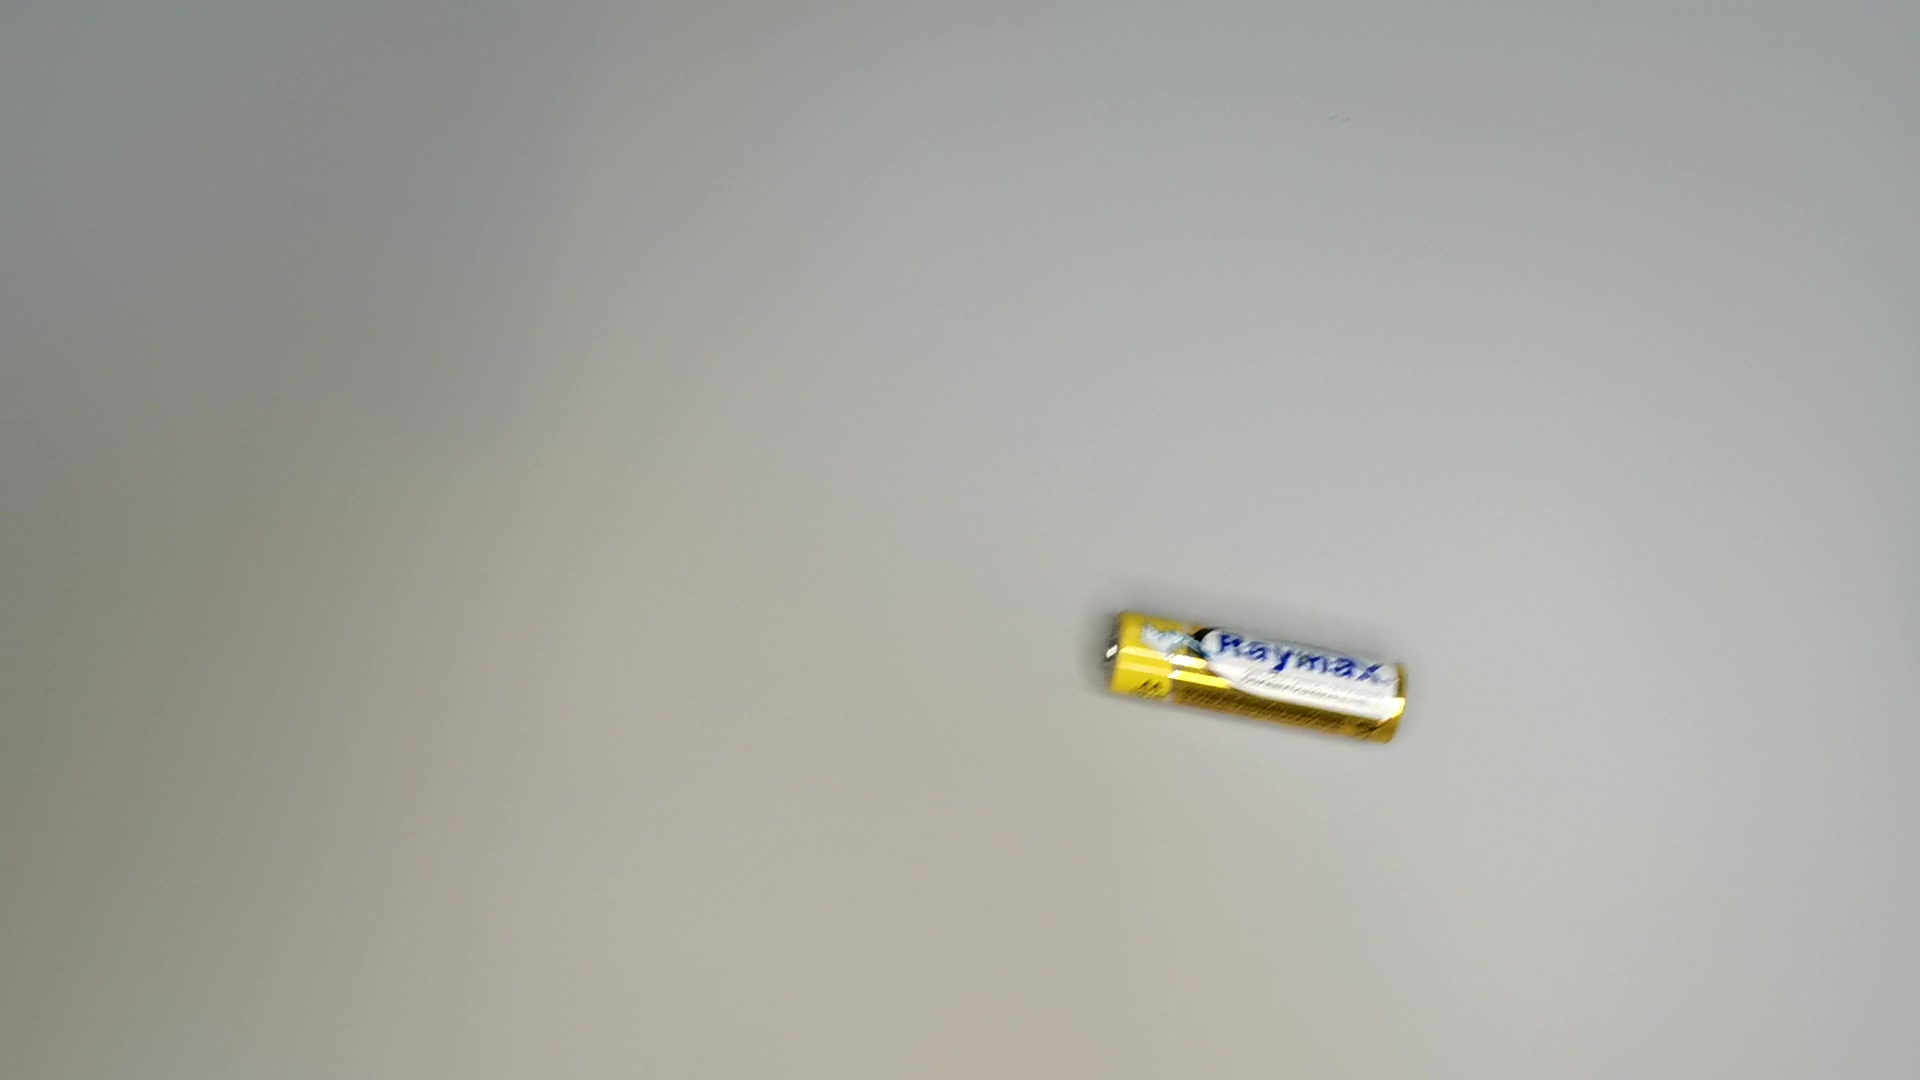battery: (1095, 605, 1418, 754)
